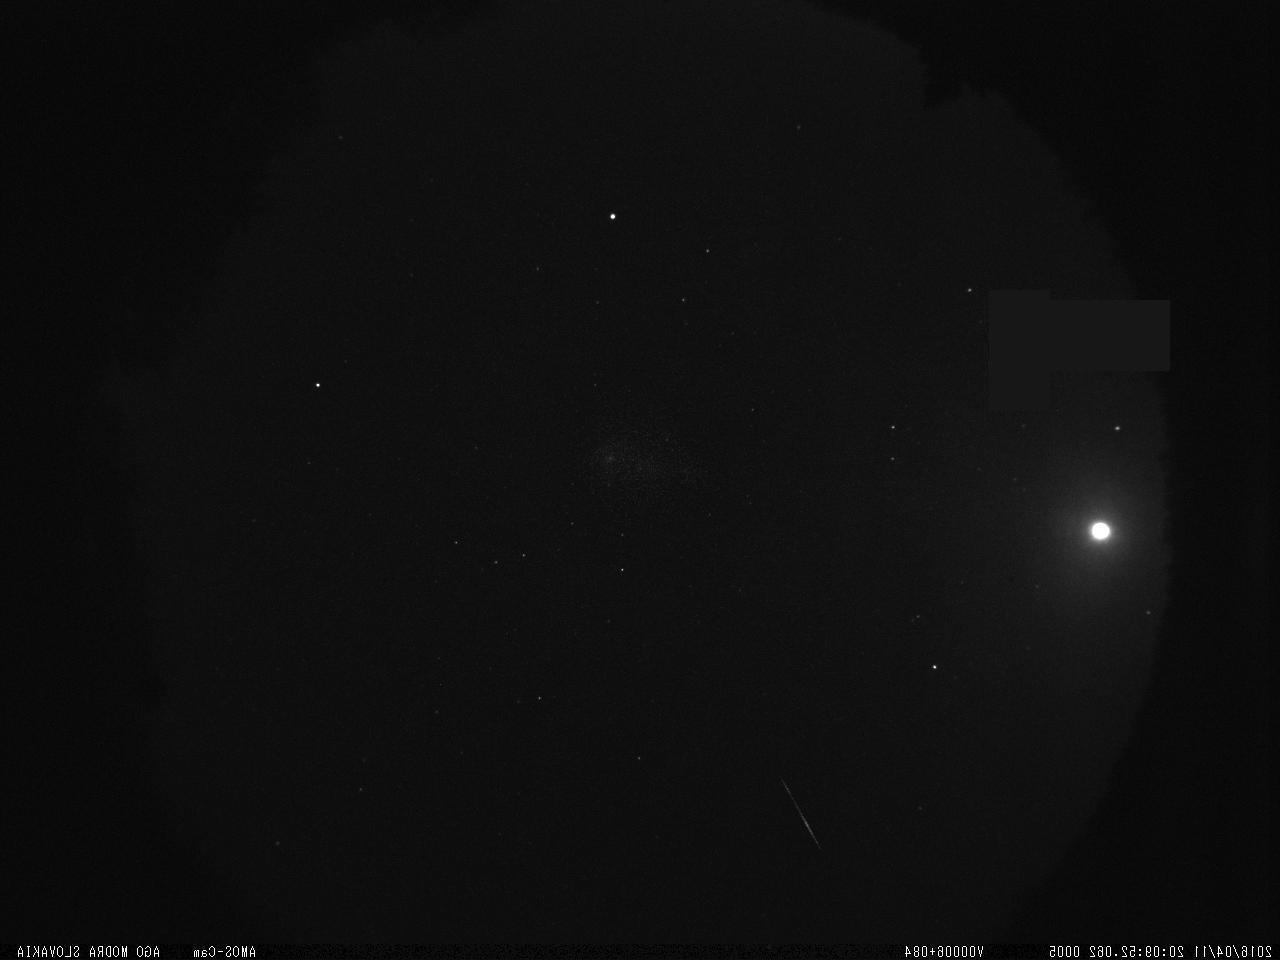meteor: (756, 762, 832, 872)
